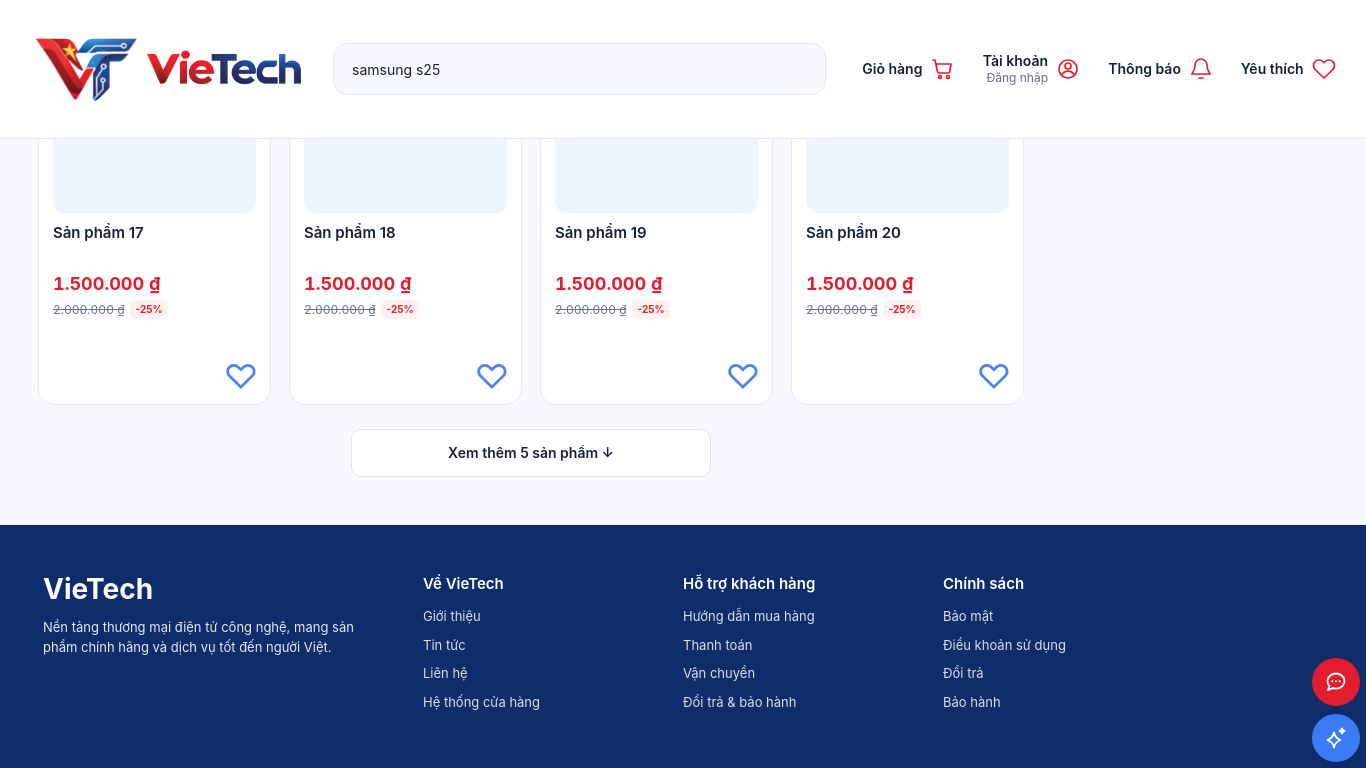
Test case: a search says what it found, sorts by relevance and loads more instead of turning pages
(page scrolled)
Click the button "Xem thêm 5 sản phẩm ↓" at [531, 453], box x1=351 y1=429 x2=711 y2=477
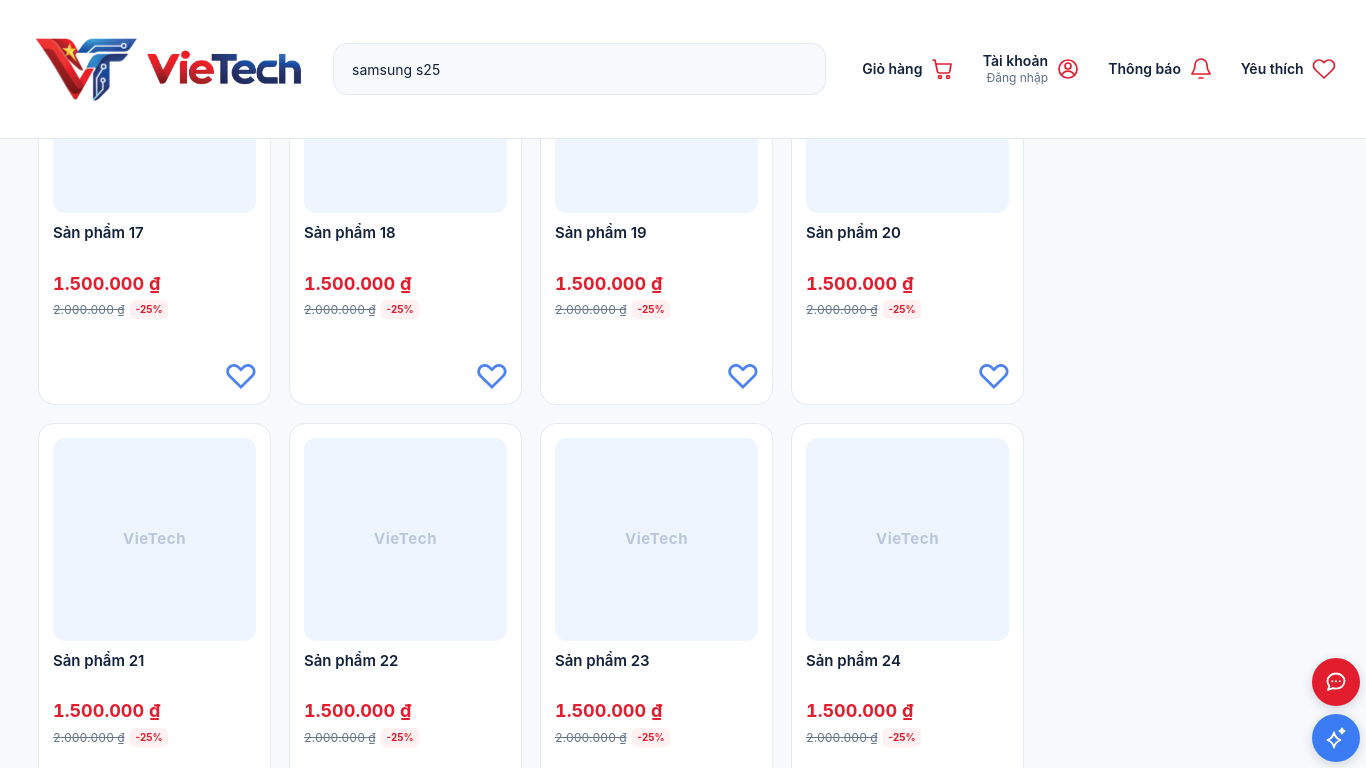
Now the button "Xem thêm" is gone
